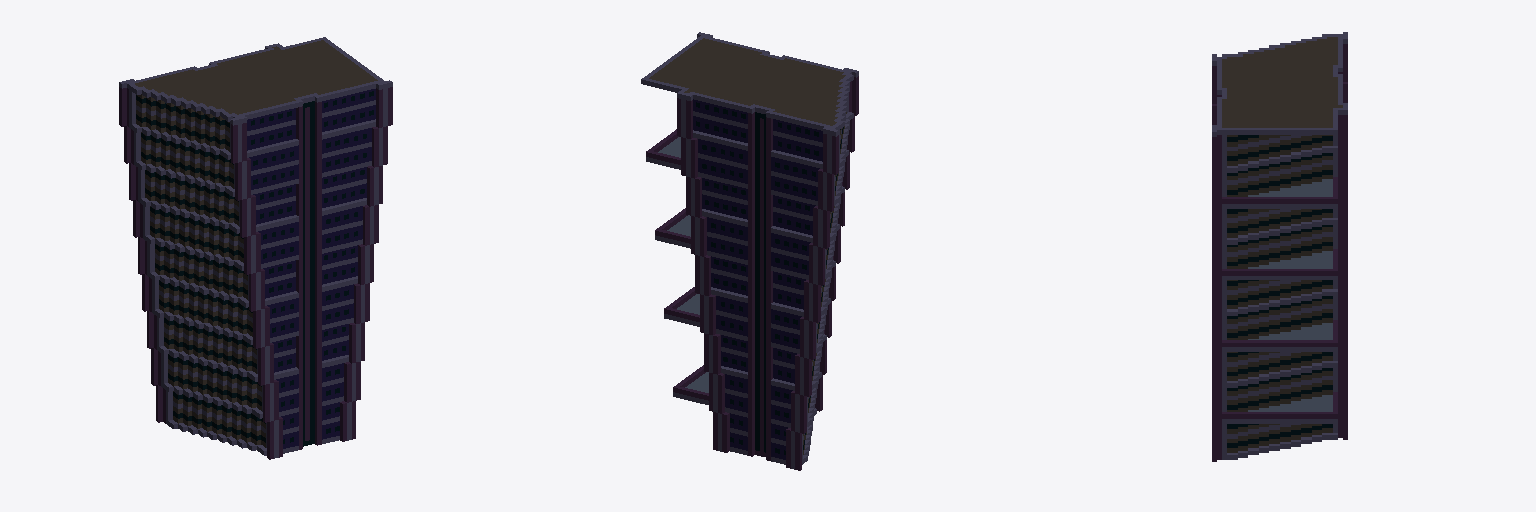
3 views of the same model, side by side, from view 1: azimuth 30°, elevation 25°; view 2: azimuth 150°, elevation 25°; view 3: azimuth 270°, elevation 25° (orthographic).
Parts seen in each view (by area): view 1: object 1; view 2: object 1; view 3: object 1.
Part boxes in pixels (left/top/right/bottom): object 1: left=119, top=37, right=392, bottom=459; object 1: left=641, top=32, right=858, bottom=470; object 1: left=1212, top=32, right=1347, bottom=461.
Bounding box in the file's own units: 4.5 × 7.3 × 2.6.
Materials: 1 (1 with a texture image).